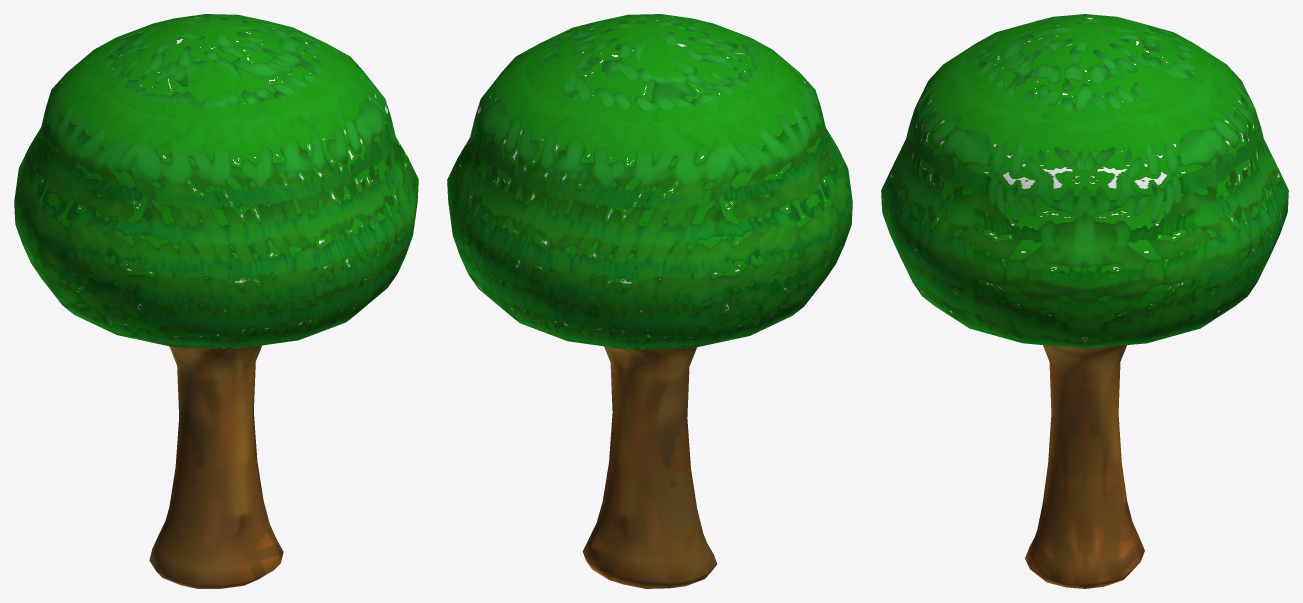
File: tree.fbx
The picture shows the model from 3 angles, left to right: view 1: azimuth 30°, elevation 25°; view 2: azimuth 150°, elevation 25°; view 3: azimuth 270°, elevation 25°; orthographic projection.
Parts seen in each view (by area): view 1: Cylinder; view 2: Cylinder; view 3: Cylinder.
Boxes of the visible parts, left/top/right/bottom form: Cylinder: left=14, top=14, right=418, bottom=588; Cylinder: left=447, top=14, right=852, bottom=588; Cylinder: left=881, top=14, right=1288, bottom=588.
Size of the model in its own units: 1278 by 1870 by 1278.
